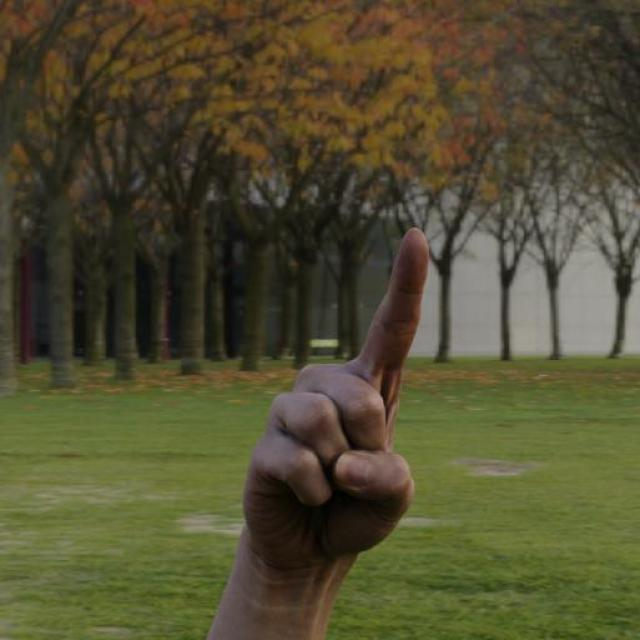Z: (242, 228, 434, 574)
